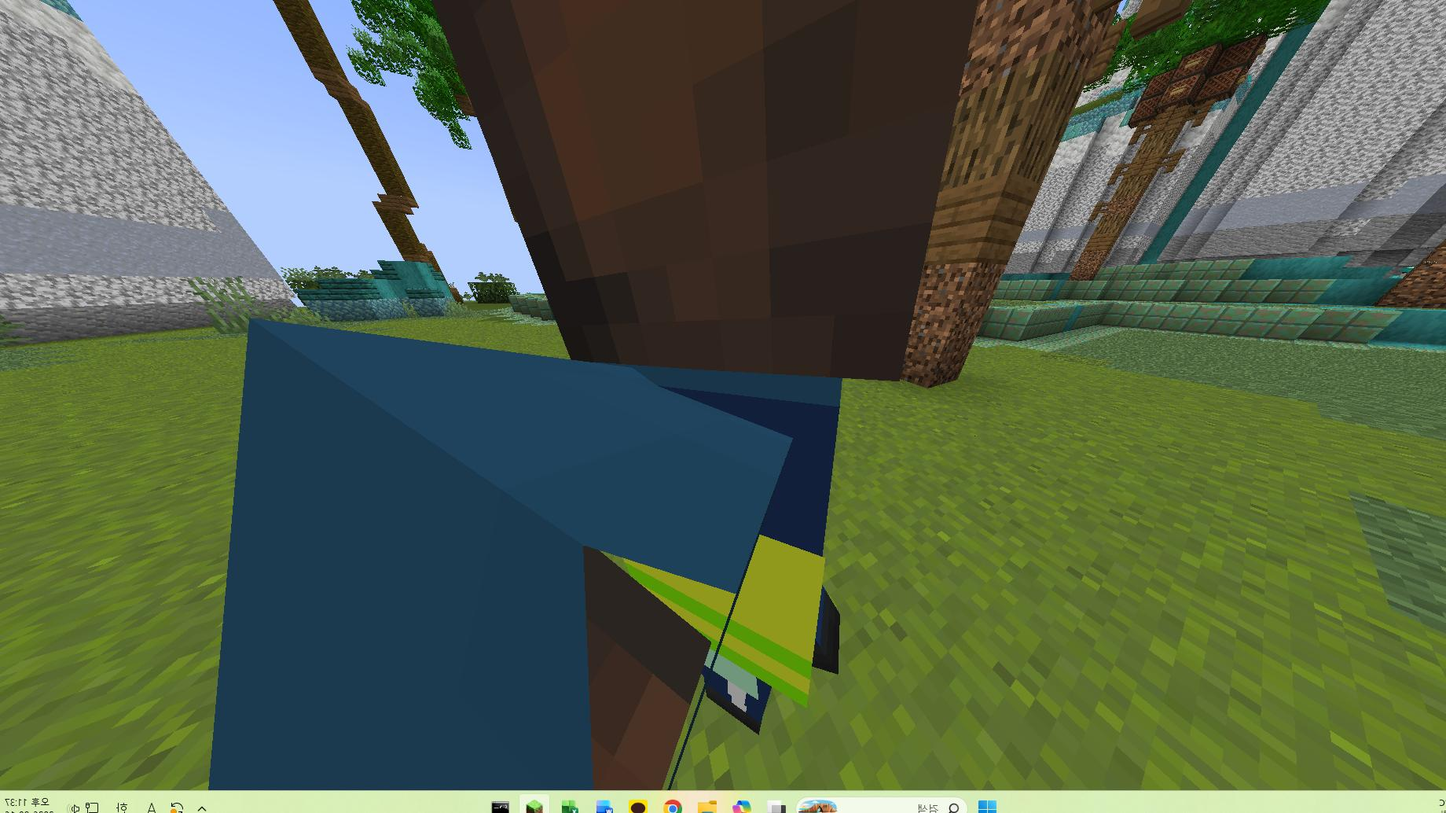Guardian: (211, 0, 977, 789)
